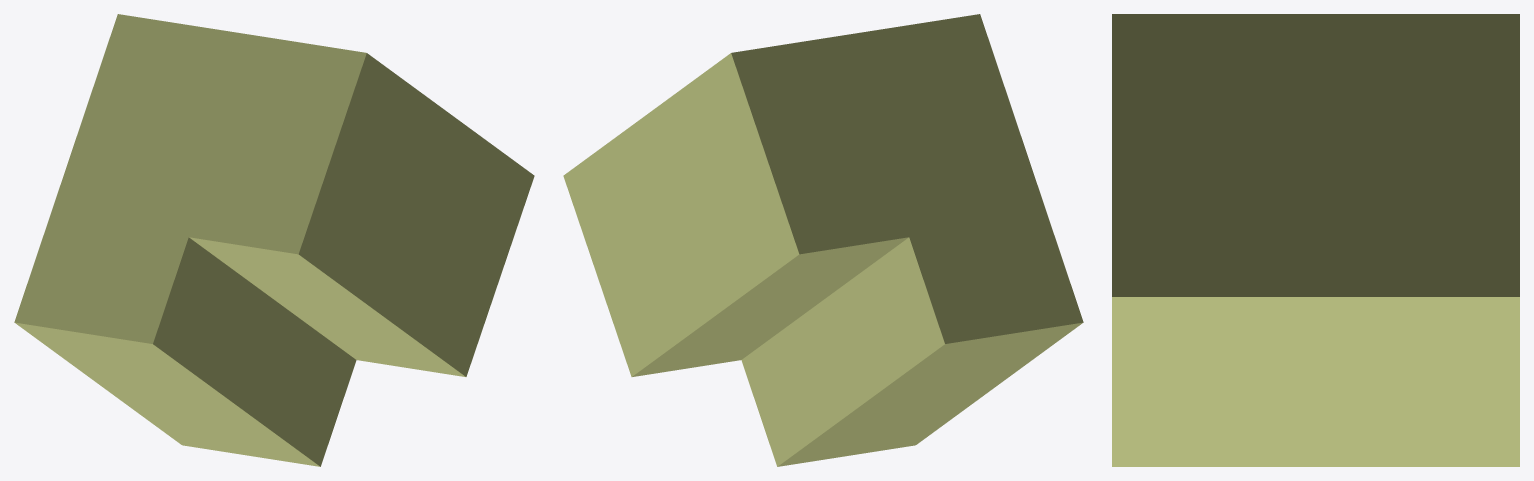
3 views of the same model, side by side, from view 1: azimuth 30°, elevation 25°; view 2: azimuth 150°, elevation 25°; view 3: azimuth 270°, elevation 25° (orthographic). The views are drawn at different scales.
Parts seen in each view (by area): view 1: 0_1_3_2_2_1_1_2_0_2; view 2: 0_1_3_2_2_1_1_2_0_2; view 3: 0_1_3_2_2_1_1_2_0_2.
Boxes of the visible parts, x1,y1,x2,y2 form: 0_1_3_2_2_1_1_2_0_2: (14, 14, 534, 466); 0_1_3_2_2_1_1_2_0_2: (563, 14, 1083, 466); 0_1_3_2_2_1_1_2_0_2: (1112, 14, 1519, 466).
Size of the model in its own units: 7.28 by 6.68 by 6.
